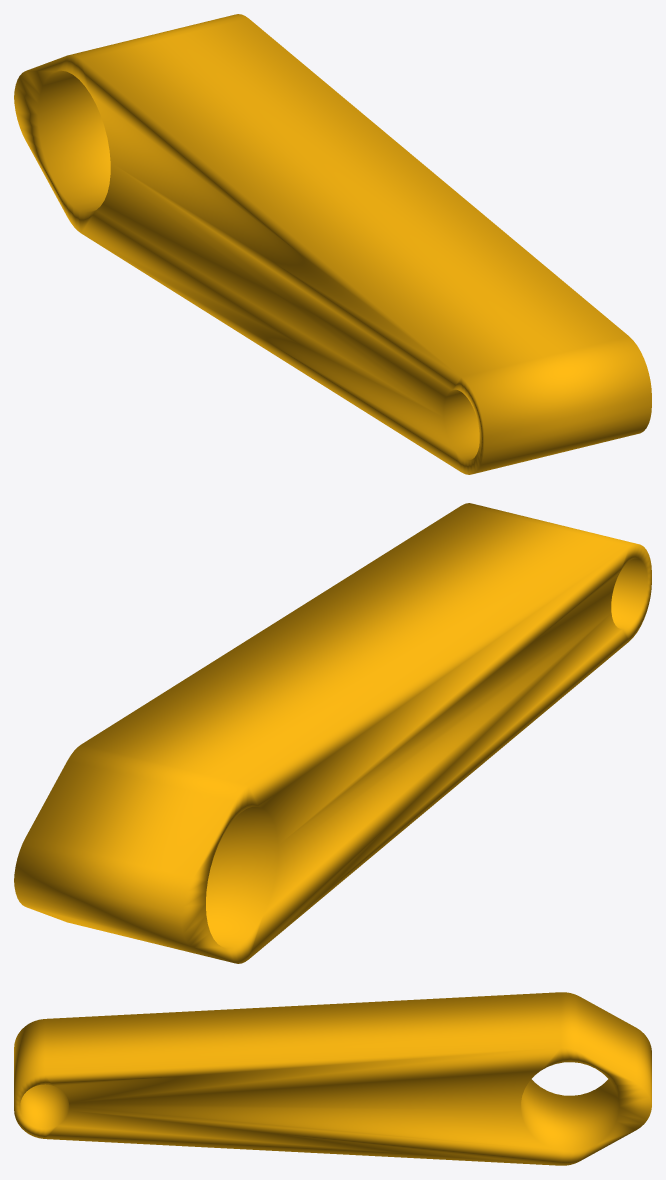
File: lowerRod_new.obj
3 views of the same model, one above another, from view 1: azimuth 30°, elevation 25°; view 2: azimuth 150°, elevation 25°; view 3: azimuth 270°, elevation 25° (orthographic). The views are drawn at different scales.
Parts seen in each view (by area): view 1: lowerRod; view 2: lowerRod; view 3: lowerRod.
Boxes of the visible parts, x1,y1,x2,y2 form: lowerRod: (14, 14, 651, 474); lowerRod: (14, 503, 651, 963); lowerRod: (14, 992, 651, 1165).
Size of the model in its own units: 0.08 by 0.0794 by 0.3887.
